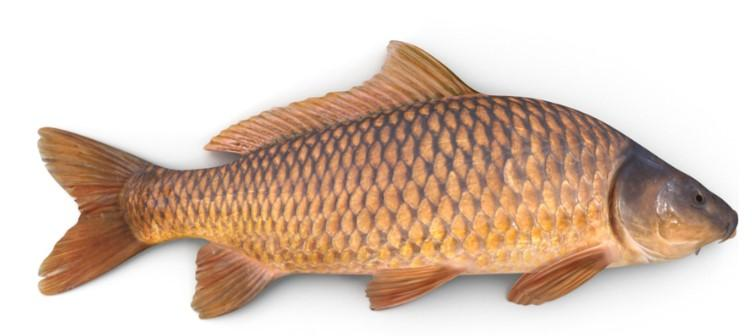Indian Carp: (35, 35, 738, 319)
